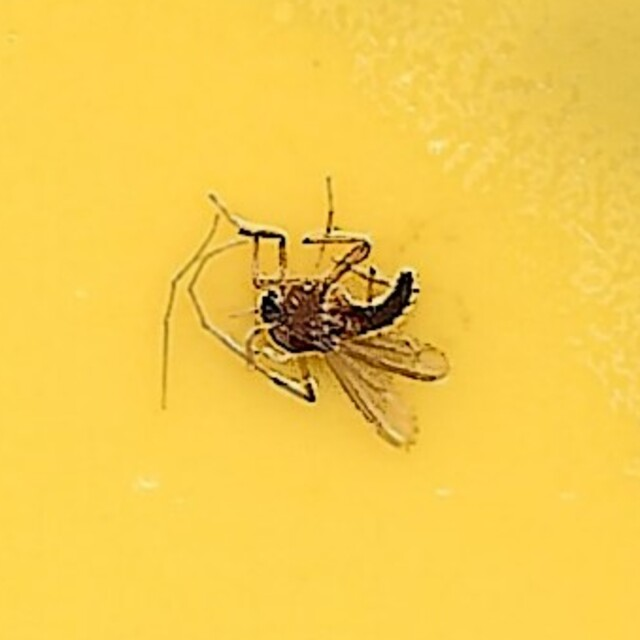Nematocera: (189, 189, 451, 451)
